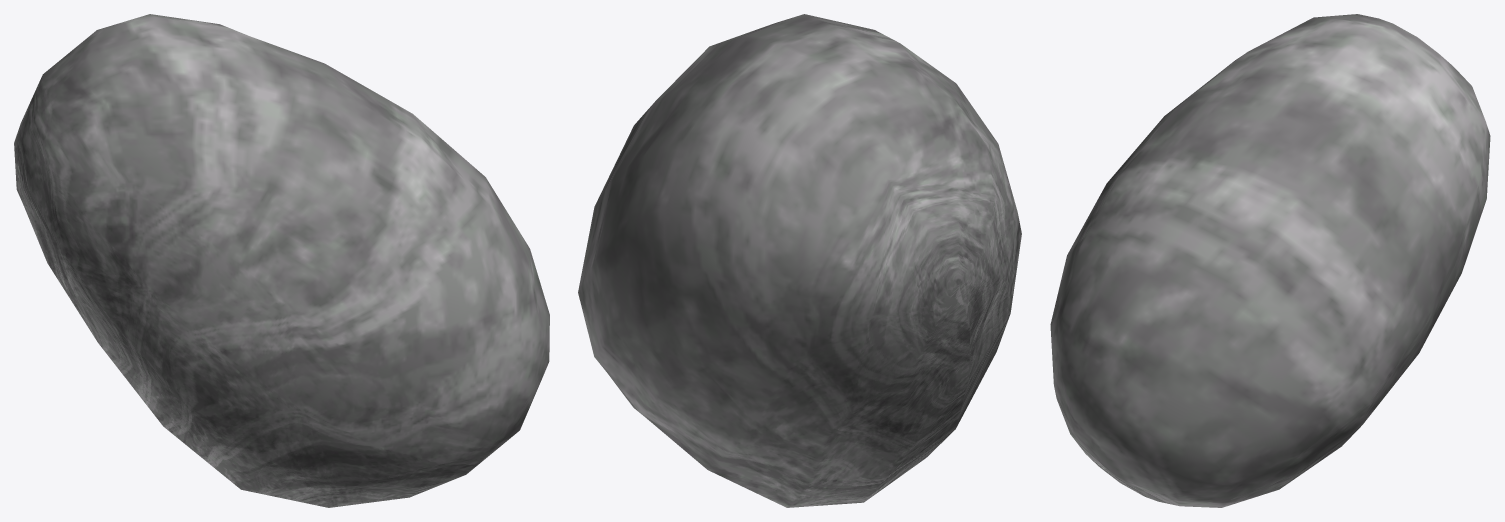
File: Potato_Item (7).fbx
3 views of the same model, side by side, from view 1: azimuth 30°, elevation 25°; view 2: azimuth 150°, elevation 25°; view 3: azimuth 270°, elevation 25° (orthographic). The views are drawn at different scales.
Visible parts, largest first — view 1: Potato; view 2: Potato; view 3: Potato.
Boxes of the visible parts, bbox=[...] form: Potato: bbox=[14, 14, 549, 507]; Potato: bbox=[578, 14, 1021, 507]; Potato: bbox=[1050, 14, 1490, 507].
Size of the model in its own units: 0.5042 by 0.5165 by 0.4996.
1 material, 1 textured.
